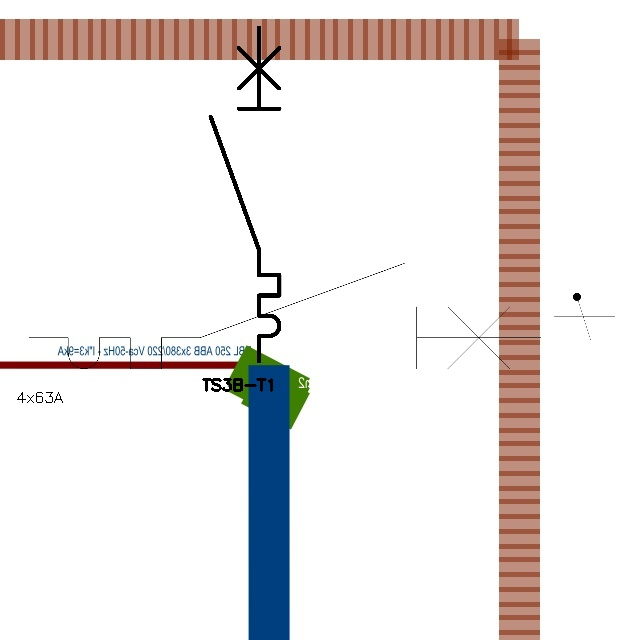interruptor_termomagnetico: (16, 250, 554, 382), (202, 19, 288, 370)
